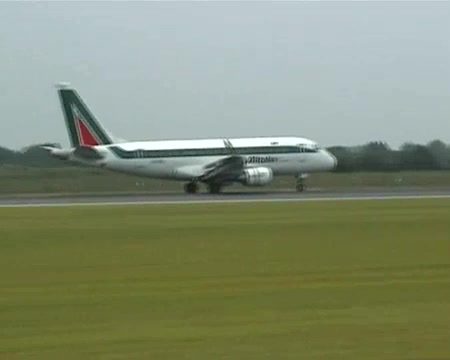aeroplane: (42, 83, 339, 194)
